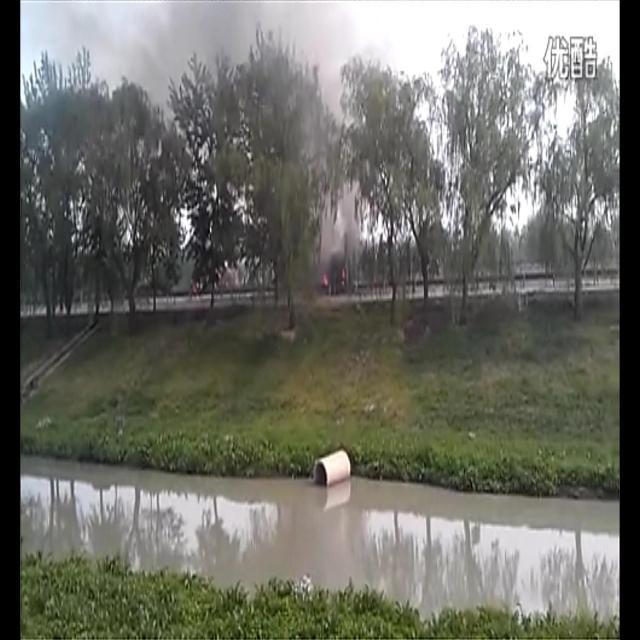Smoke: (51, 1, 362, 316)
